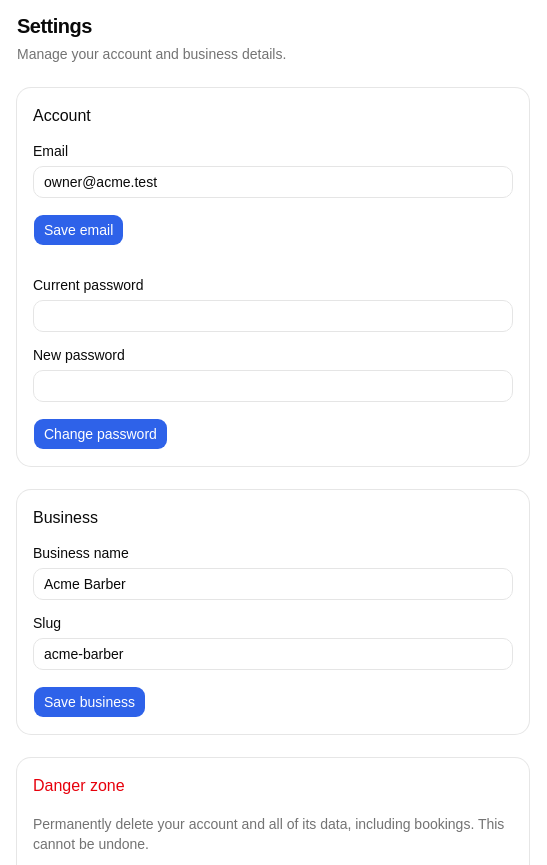
Test case: Settings page › shows an error when the current password is wrong
Type "wrong" into the password field labelled "Current password".
click(273, 316); type("wrong")  # box [33,300,513,332]
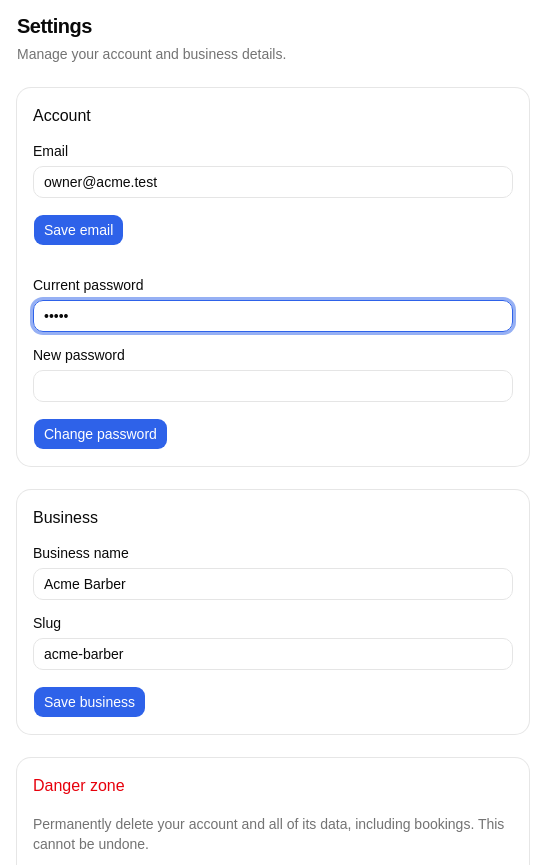
Type "brand-new-password" into the password field labelled "New password".
click(273, 386); type("brand-new-password")  # box [33,370,513,402]
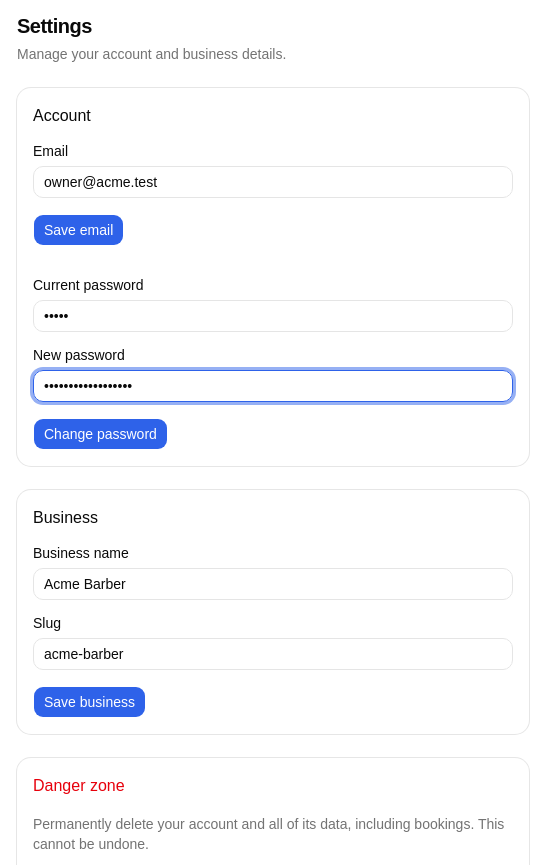
Click the button "Change password".
click(100, 434)  # box [33,418,168,450]
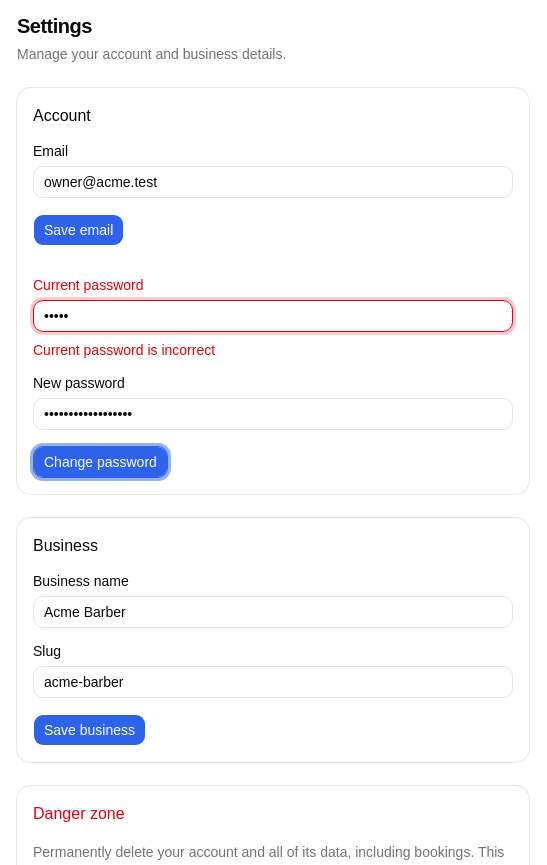
expect the text "Current password is incorrect" is shown: met, box [33,342,215,358]
